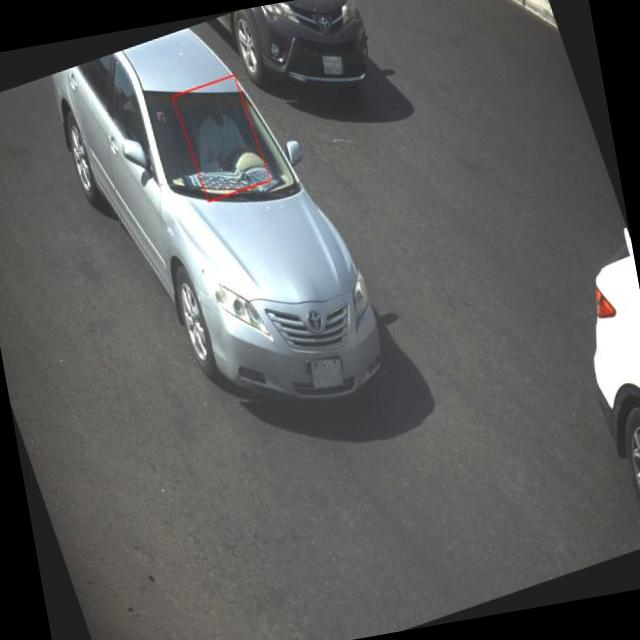person_without_seatbelt: (190, 82, 257, 192)
